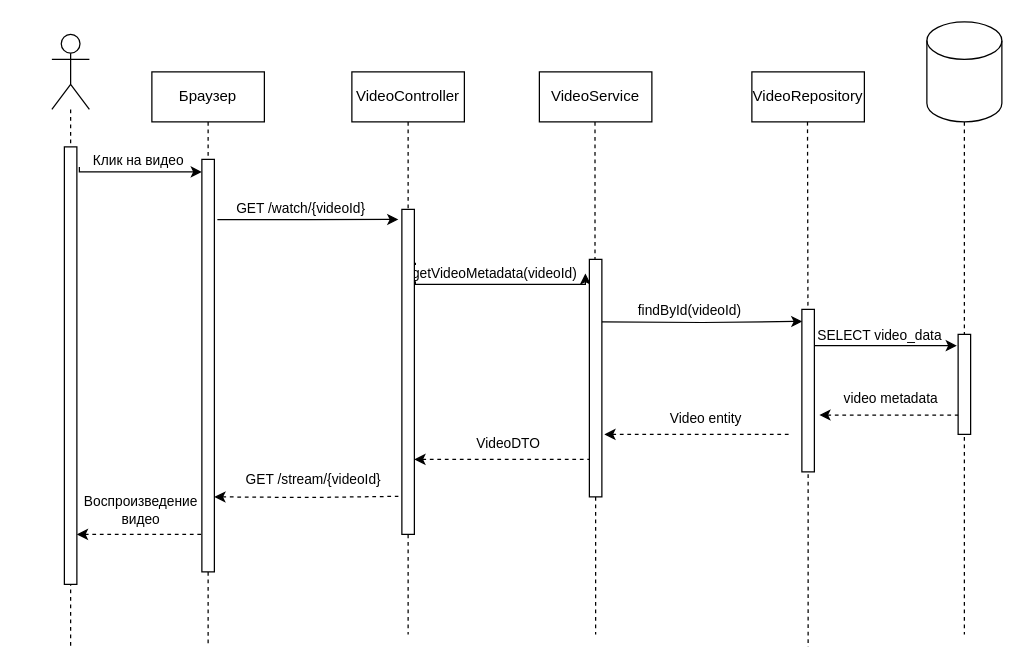
Image size: 1024x670. Some labels were removed from this diagram. Each missing label, with the centre of its shape:
Postgresql: pixel 964 71
Пользователь: pixel 70 71
